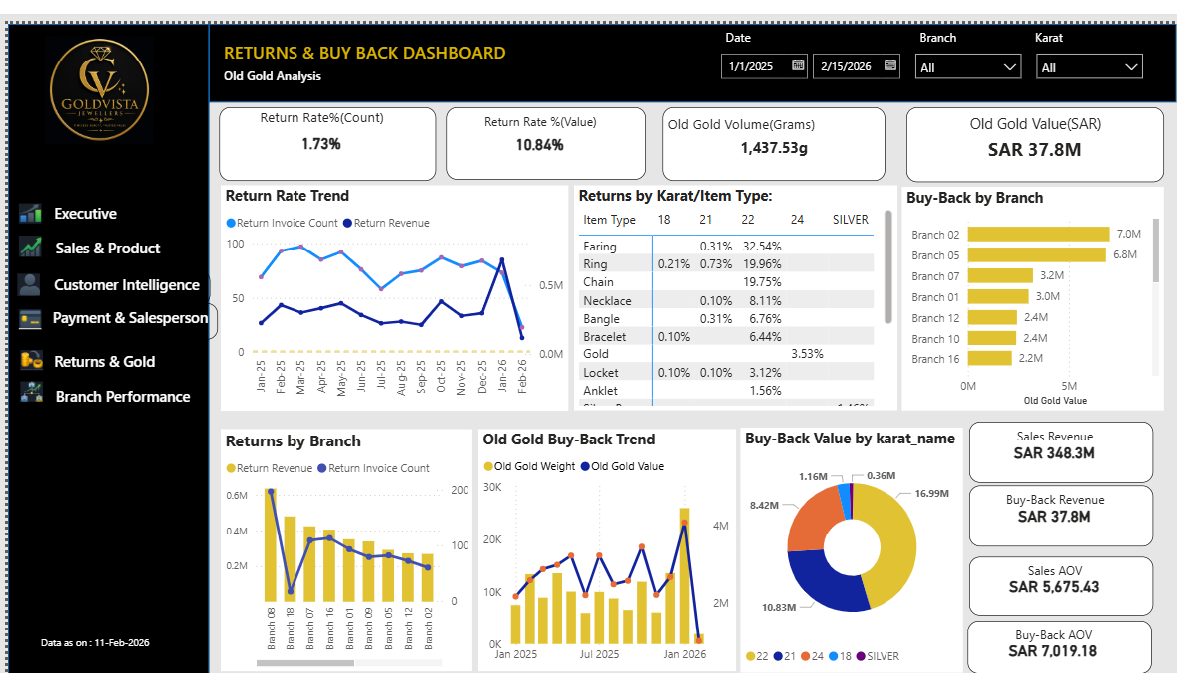

The page's visual inventory and layout, read from the dashboard file:
{"tool":"powerbi","page":{"name":"Returns & Buy Back","canvas":[1280,720],"ordinal":4},"visuals":[{"type":"shape","box":[0,0,220,720],"z":0},{"type":"image","box":[31.5,9,137.1,129.2],"z":1000},{"type":"card","fields":{"Values":["Measure.Last Data Date"]},"box":[0,653,190,67],"z":2000},{"type":"shape","box":[220.2,0,1059.6,86.5],"z":3000},{"type":"slicer","fields":{"Values":["dim_date.Date"]},"box":[767,23,217,64],"z":4000},{"type":"textbox","box":[780,0,74,30],"z":5000},{"type":"slicer","fields":{"Values":["public dim_branch.branch_name"]},"box":[984,23,136,55],"z":6000},{"type":"slicer","fields":{"Values":["public dim_karat.karat_name"]},"box":[1117,23,136,55],"z":7000},{"type":"textbox","box":[993,0,74,30],"z":8000},{"type":"textbox","box":[1120,0,74,30],"z":9000},{"type":"textbox","title":"RETURNS & BUY BACK DASHBOARD","box":[231.5,18,420.2,50.6],"z":10000},{"type":"card","title":"Return Rate%(Count)","fields":{"Values":["Measure.Return Rate % Count"]},"box":[231.5,92.1,238.2,82],"z":11000},{"type":"card","title":"Old Gold Volume(Grams)","fields":{"Values":["Measure.Old Gold  Weight K Kg"]},"box":[716.9,92.1,243.8,82],"z":12000},{"type":"card","title":"Return Rate %(Value)","fields":{"Values":["Measure.Return Rate % Value"]},"box":[480.9,92.1,218,80.9],"z":13000},{"type":"card","title":"Old Gold Value(SAR)","fields":{"Values":["Measure.Old Gold Value Display"]},"box":[984.3,92.1,282,83.1],"z":14000},{"type":"lineChart","title":"Return Rate Trend","fields":{"Category":["dim_date.YearMonth"],"Y2":["Measure.Return Revenue"],"Y":["Measure.Return Invoice Count"]},"box":[232.9,179.3,380.5,248.8],"z":15000},{"type":"lineClusteredColumnComboChart","title":"Returns by Branch","fields":{"Category":["public dim_branch.branch_name"],"Y":["Measure.Return Revenue"],"Y2":["Measure.Return Invoice Count"]},"box":[232.9,447.6,275.6,267.1],"z":16000},{"type":"pivotTable","title":"Returns by Karat/Item Type:","fields":{"Columns":["public dim_karat.karat_name"],"Rows":["public dim_item_type.item_type_name"],"Values":["Measure.Return Invoice Count"]},"box":[619.5,179.3,353.7,247.6],"z":17000},{"type":"lineStackedColumnComboChart","title":"Old Gold Buy-Back Trend","fields":{"Category":["dim_date.YearMonth"],"Y":["Measure.Old Gold Weight"],"Y2":["Measure.Old Gold Value"]},"box":[514.6,447.6,281.7,267.1],"z":18000},{"type":"clusteredBarChart","title":"Buy-Back by Branch","fields":{"Category":["public dim_branch.branch_name"],"Y":["Measure.Old Gold Value"]},"box":[979.3,180.5,286.6,246.3],"z":19000},{"type":"donutChart","title":"Buy-Back Value by karat_name","fields":{"Category":["public dim_karat.karat_name"],"Y":["Measure.Old Gold Value"]},"box":[802.4,446.3,243.9,270.7],"z":20000},{"type":"card","title":"Sales Revenue","fields":{"Values":["Measure.Total Revenue Display"]},"box":[1052.4,439,201.2,67.1],"z":21000},{"type":"card","title":"Buy-Back AOV","fields":{"Values":["Measure.Average Old Gold Transaction Value"]},"box":[1051.2,658.5,201.2,58.5],"z":22000},{"type":"card","title":"Sales AOV","fields":{"Values":["Measure.Average Invoice Value KPI"]},"box":[1052.4,587.8,201.2,64.6],"z":23000},{"type":"card","title":"Buy-Back Revenue","fields":{"Values":["Measure.Old Gold Value Display"]},"box":[1052.4,509.8,201.2,67.1],"z":24000},{"type":"actionButton","title":"Executive","box":[46.7,192.8,154,39],"z":25000},{"type":"actionButton","title":"Sales & Product","box":[47.7,231.8,154,39],"z":26000},{"type":"actionButton","title":"Customer Intelligence","box":[47,271.1,173.5,38.6],"z":27000},{"type":"actionButton","title":"Payment & Salesperson","box":[42.2,308.4,178.3,34.9],"z":28000},{"type":"actionButton","title":"Returns & Buy-Back","box":[46.7,356.8,154,39],"z":29000},{"type":"actionButton","title":"Branch Performance","box":[47,395.5,155,41],"z":30000},{"type":"image","box":[6.7,192.3,35,35],"z":31000},{"type":"image","box":[8.3,389,35,35],"z":32000},{"type":"image","box":[8.3,354,35,35],"z":33000},{"type":"image","box":[5,270.7,35,35],"z":34000},{"type":"image","box":[6.7,309,35,35],"z":35000},{"type":"image","box":[6.7,227.3,35,35],"z":36000}]}

Visuals, with their boxes on the page's 1280x720 design canvas (x1, y1, x2, y2). These are canvas units, not pixel positions in the 1181x673 screenshot, which may show the page scaled, cropped or inside an application window:
shape: x1=0 y1=0 x2=220 y2=720
image: x1=32 y1=9 x2=169 y2=138
card - Measure.Last Data Date: x1=0 y1=653 x2=190 y2=720
shape: x1=220 y1=0 x2=1280 y2=86
slicer - dim_date.Date: x1=767 y1=23 x2=984 y2=87
textbox: x1=780 y1=0 x2=854 y2=30
slicer - public dim_branch.branch_name: x1=984 y1=23 x2=1120 y2=78
slicer - public dim_karat.karat_name: x1=1117 y1=23 x2=1253 y2=78
textbox: x1=993 y1=0 x2=1067 y2=30
textbox: x1=1120 y1=0 x2=1194 y2=30
"RETURNS & BUY BACK DASHBOARD" textbox: x1=232 y1=18 x2=652 y2=69
"Return Rate%(Count)" card: x1=232 y1=92 x2=470 y2=174
"Old Gold Volume(Grams)" card: x1=717 y1=92 x2=961 y2=174
"Return Rate %(Value)" card: x1=481 y1=92 x2=699 y2=173
"Old Gold Value(SAR)" card: x1=984 y1=92 x2=1266 y2=175
"Return Rate Trend" lineChart: x1=233 y1=179 x2=613 y2=428
"Returns by Branch" lineClusteredColumnComboChart: x1=233 y1=448 x2=508 y2=715
"Returns by Karat/Item Type:" pivotTable: x1=620 y1=179 x2=973 y2=427
"Old Gold Buy-Back Trend" lineStackedColumnComboChart: x1=515 y1=448 x2=796 y2=715
"Buy-Back by Branch" clusteredBarChart: x1=979 y1=180 x2=1266 y2=427
"Buy-Back Value by karat_name" donutChart: x1=802 y1=446 x2=1046 y2=717
"Sales Revenue" card: x1=1052 y1=439 x2=1254 y2=506
"Buy-Back AOV" card: x1=1051 y1=658 x2=1252 y2=717
"Sales AOV" card: x1=1052 y1=588 x2=1254 y2=652
"Buy-Back Revenue" card: x1=1052 y1=510 x2=1254 y2=577
"Executive" actionButton: x1=47 y1=193 x2=201 y2=232
"Sales & Product" actionButton: x1=48 y1=232 x2=202 y2=271
"Customer Intelligence" actionButton: x1=47 y1=271 x2=220 y2=310
"Payment & Salesperson" actionButton: x1=42 y1=308 x2=220 y2=343
"Returns & Buy-Back" actionButton: x1=47 y1=357 x2=201 y2=396
"Branch Performance" actionButton: x1=47 y1=396 x2=202 y2=436
image: x1=7 y1=192 x2=42 y2=227
image: x1=8 y1=389 x2=43 y2=424
image: x1=8 y1=354 x2=43 y2=389
image: x1=5 y1=271 x2=40 y2=306
image: x1=7 y1=309 x2=42 y2=344
image: x1=7 y1=227 x2=42 y2=262
